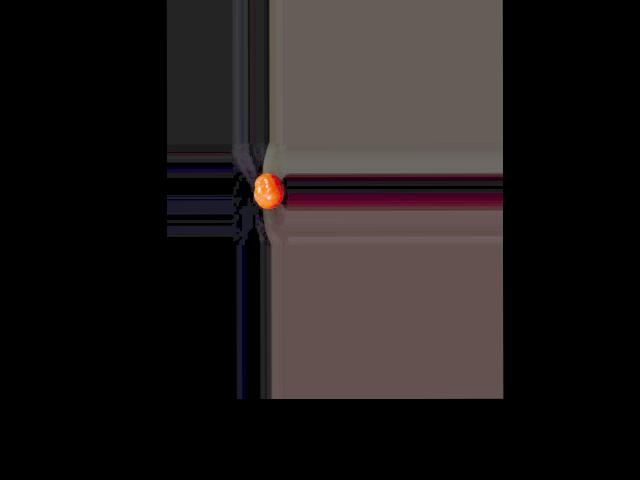tomato: (254, 173, 284, 209)
